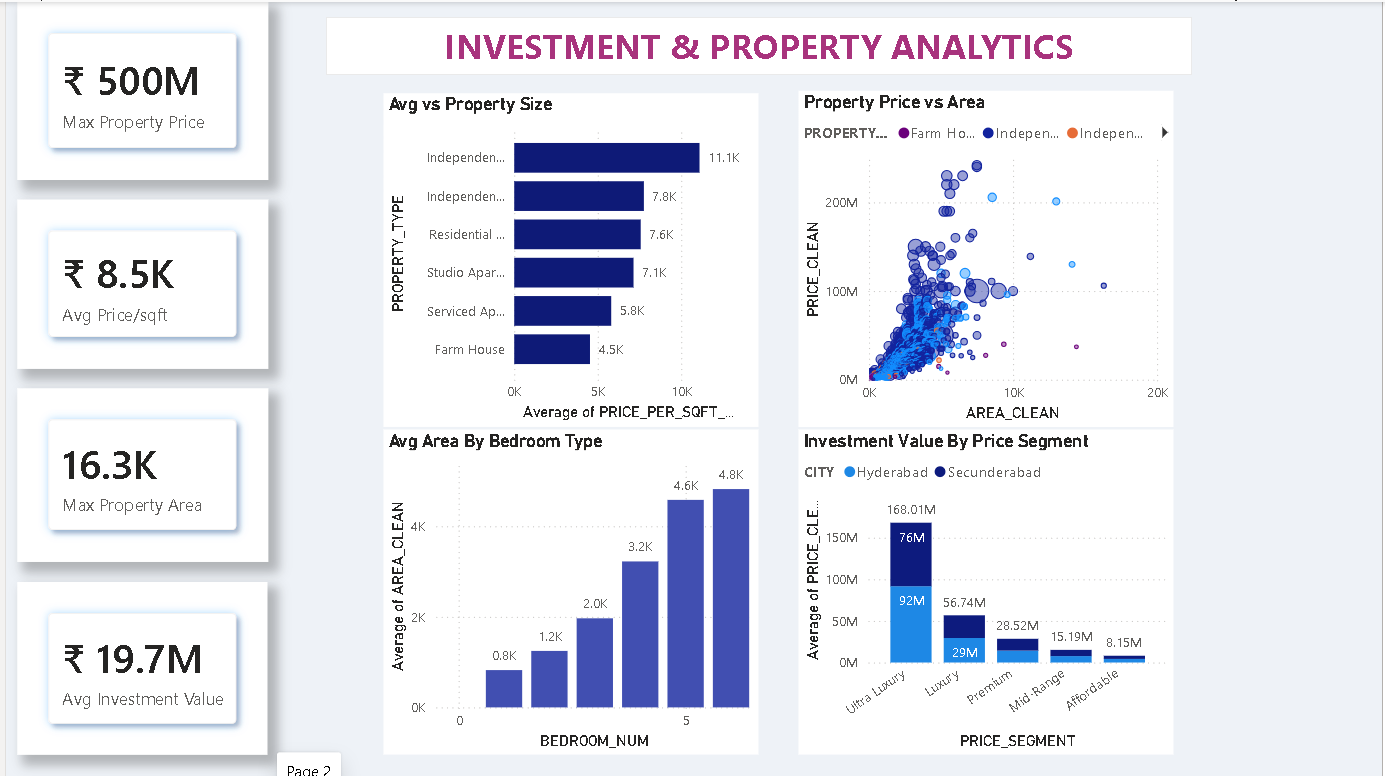

The dashboard page shown, as its layout file describes it:
{"tool":"powerbi","page":{"name":"Page 2","canvas":[1280,720],"ordinal":1},"visuals":[{"type":"cardVisual","fields":{"Data":["Max(final_realty_mysql_ready.PRICE_CLEAN)"]},"box":[10,0,233.3,165.6],"z":0},{"type":"cardVisual","fields":{"Data":["Avg(final_realty_mysql_ready.PRICE_PER_SQFT_ENGINEERED)"]},"box":[10,183.7,233.3,157.8],"z":1000},{"type":"cardVisual","fields":{"Data":["Max(final_realty_mysql_ready.AREA_CLEAN)"]},"box":[10,359.6,233.8,161.2],"z":2000},{"type":"cardVisual","fields":{"Data":["Avg(final_realty_mysql_ready.PRICE_CLEAN)"]},"box":[10,539,233,161],"z":3000},{"type":"scatterChart","title":"Property Price vs Area","fields":{"Size":["Sum(final_realty_mysql_ready.PRICE_PER_SQFT_ENGINEERED)"],"Y":["final_realty_mysql_ready.PRICE_CLEAN"],"Series":["final_realty_mysql_ready.PROPERTY_TYPE"],"X":["final_realty_mysql_ready.AREA_CLEAN"]},"box":[737.5,82.5,348.8,312.5],"z":4000},{"type":"barChart","title":"Avg vs Property Size","fields":{"Category":["final_realty_mysql_ready.PROPERTY_TYPE"],"Y":["Avg(final_realty_mysql_ready.PRICE_PER_SQFT_ENGINEERED)"]},"box":[351.2,85,348.8,310],"z":5000},{"type":"columnChart","title":"Avg Area By Bedroom Type","fields":{"Category":["final_realty_mysql_ready.BEDROOM_NUM"],"Y":["Avg(final_realty_mysql_ready.AREA_CLEAN)"]},"box":[351.2,397.5,348.8,302.5],"z":6000},{"type":"columnChart","title":"Investment Value By Price Segment ","fields":{"Category":["final_realty_mysql_ready.PRICE_SEGMENT"],"Y":["Avg(final_realty_mysql_ready.PRICE_CLEAN)"],"Series":["final_realty_mysql_ready.CITY"]},"box":[737.5,397.5,348.8,302.5],"z":7000},{"type":"textbox","box":[297.7,14,805.8,53.5],"z":8000}]}

Visuals, with their boxes in screenshot pixels (x1, y1, x2, y2), scaled from the page's 1280x720 canvas onto the 1385x776 screenshot:
cardVisual - Max(final_realty_mysql_ready.PRICE_CLEAN): detection(11, 0, 263, 178)
cardVisual - Avg(final_realty_mysql_ready.PRICE_PER_SQFT_ENGINEERED): detection(11, 198, 263, 368)
cardVisual - Max(final_realty_mysql_ready.AREA_CLEAN): detection(11, 388, 264, 561)
cardVisual - Avg(final_realty_mysql_ready.PRICE_CLEAN): detection(11, 581, 263, 754)
"Property Price vs Area" scatterChart: detection(798, 89, 1175, 426)
"Avg vs Property Size" barChart: detection(380, 92, 757, 426)
"Avg Area By Bedroom Type" columnChart: detection(380, 428, 757, 754)
"Investment Value By Price Segment " columnChart: detection(798, 428, 1175, 754)
textbox: detection(322, 15, 1194, 73)
